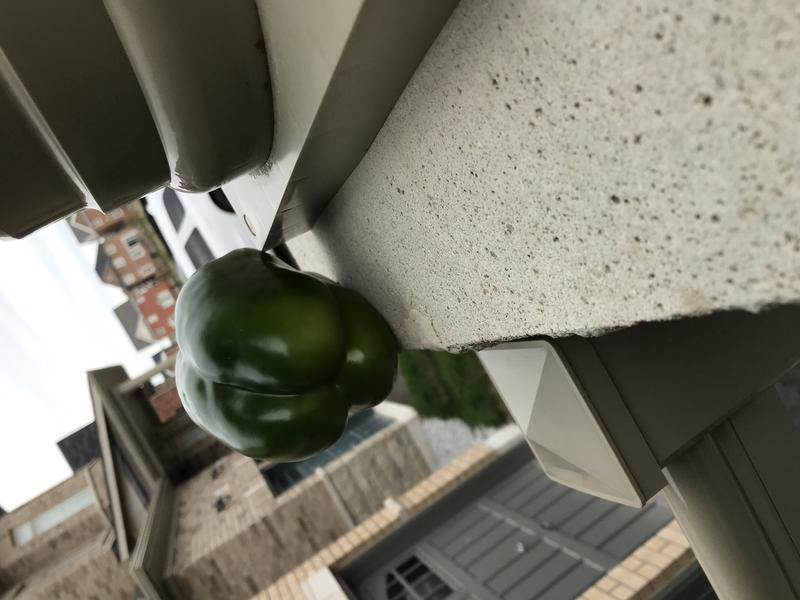green_pepper: (150, 238, 416, 470)
